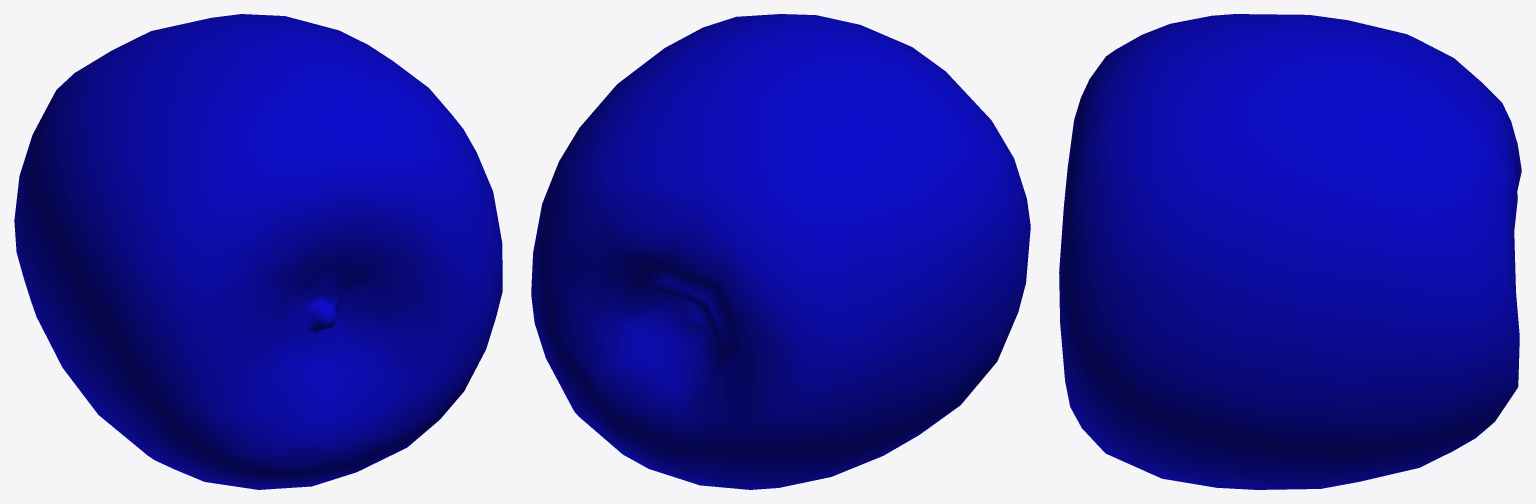
The model's file is 08194_sparse_textured_ok.obj.
3 views of the same model, side by side, from view 1: azimuth 30°, elevation 25°; view 2: azimuth 150°, elevation 25°; view 3: azimuth 270°, elevation 25° (orthographic). The views are drawn at different scales.
Parts seen in each view (by area): view 1: textured_ok; view 2: textured_ok; view 3: textured_ok.
Boxes of the visible parts, x1,y1,x2,y2 form: textured_ok: (14,14,502,489); textured_ok: (531,14,1030,489); textured_ok: (1059,14,1521,489).
Size of the model in its own units: 0.0754 by 0.0747 by 0.0721.
